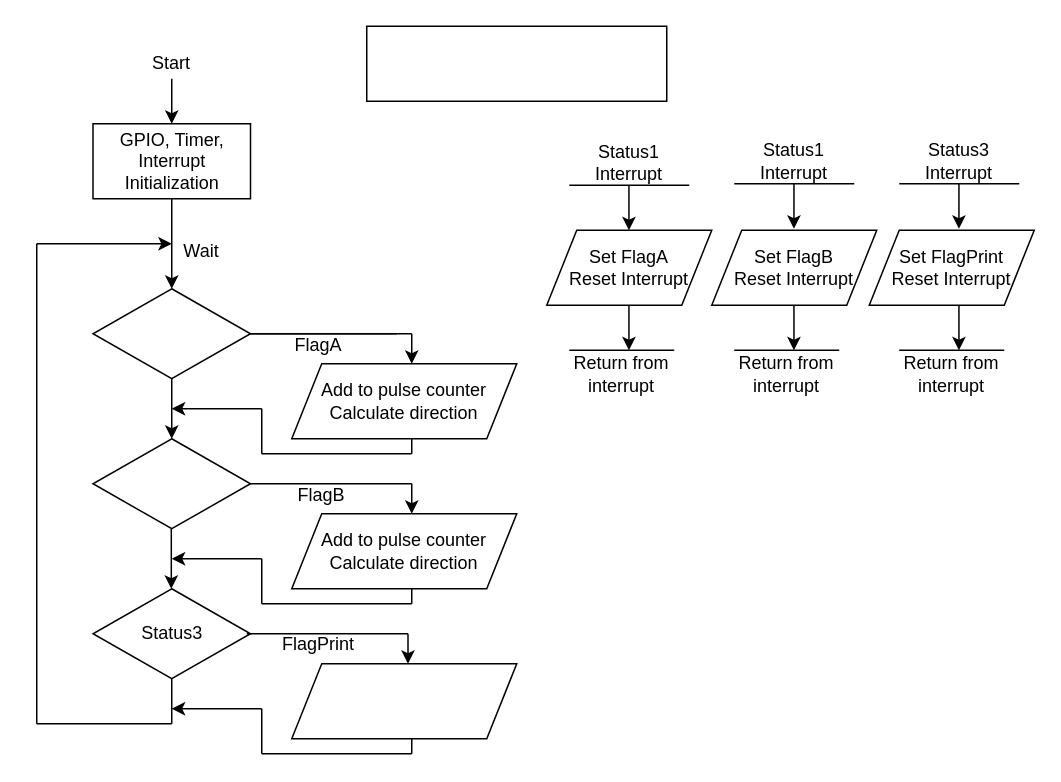
Image size: 1061x782. Some labels were removed from this diagram. The shapes that lost their labels are listed below. From the top down, each one's centre as x and y in pixels, then its label:
At point 516,63: "Lab 5 Interrupt Flowchart Emily Kendrick, 10/6/25 ekendrick@hmc.edu".
At point 171,333: "Status1".
At point 171,483: "Status2".
At point 403,700: "Calculate velocity Print velocity".
